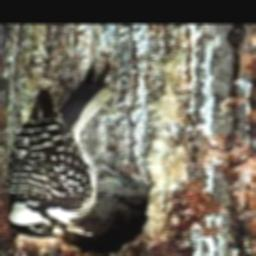Woodpecker: (6, 64, 119, 242)
